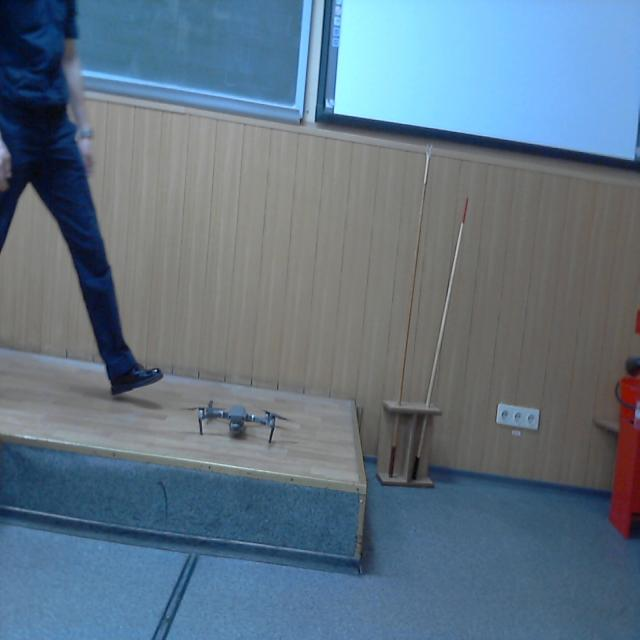drone: (190, 383, 288, 456)
